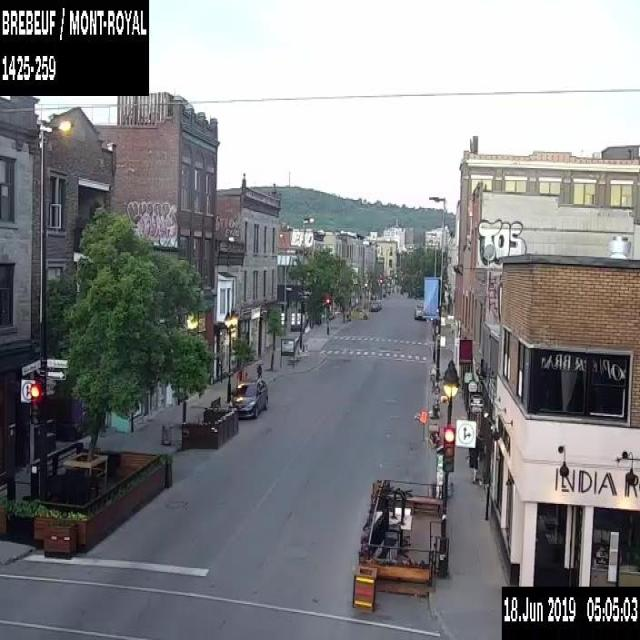construction: (420, 411, 427, 441)
pedestrian: (256, 362, 263, 378)
vehicle: (227, 376, 268, 420), (414, 302, 426, 322), (369, 297, 382, 311)
